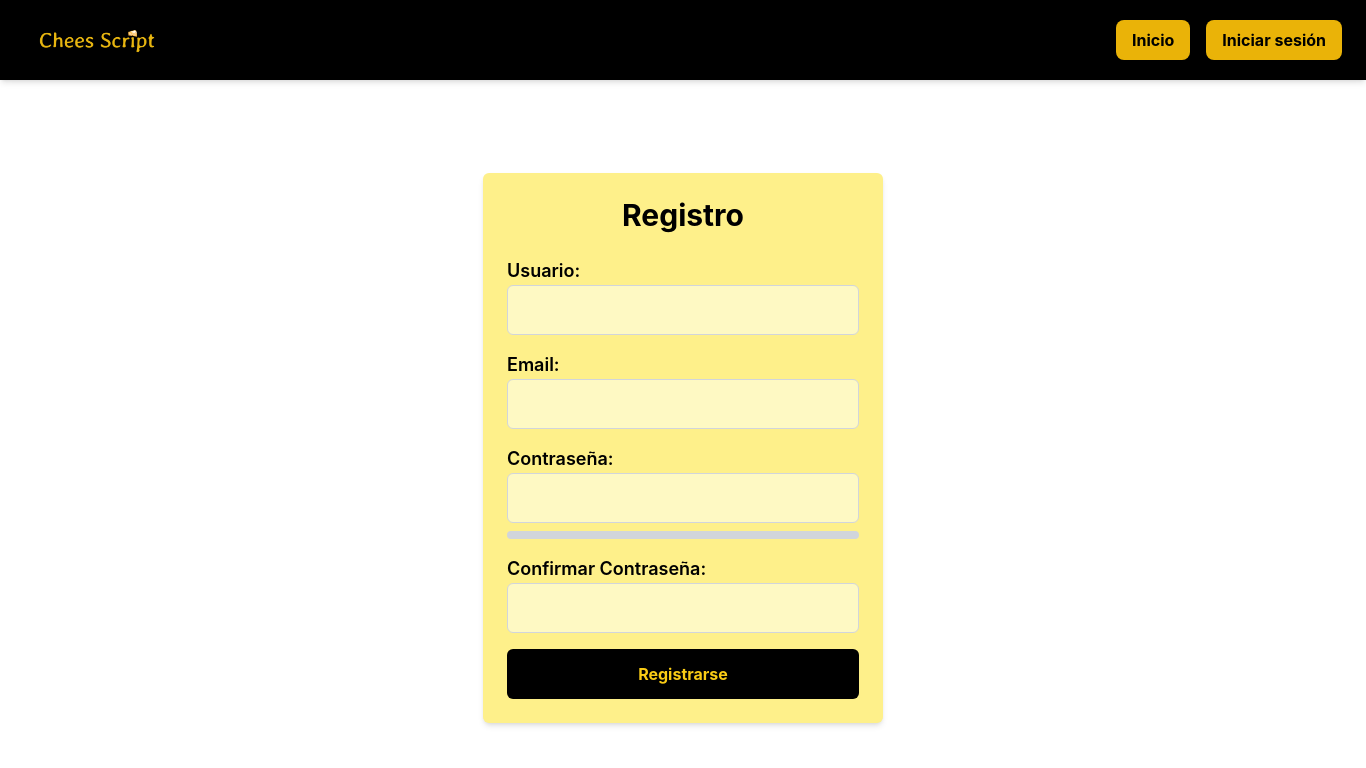
Test: Flujo de registro de Usuario › Fallo porque solo se permite Gmail y Outlook
Type "UsuarioTest" into the field named "username" below "Usuario:" at (683, 310), box [507, 285, 859, 335]
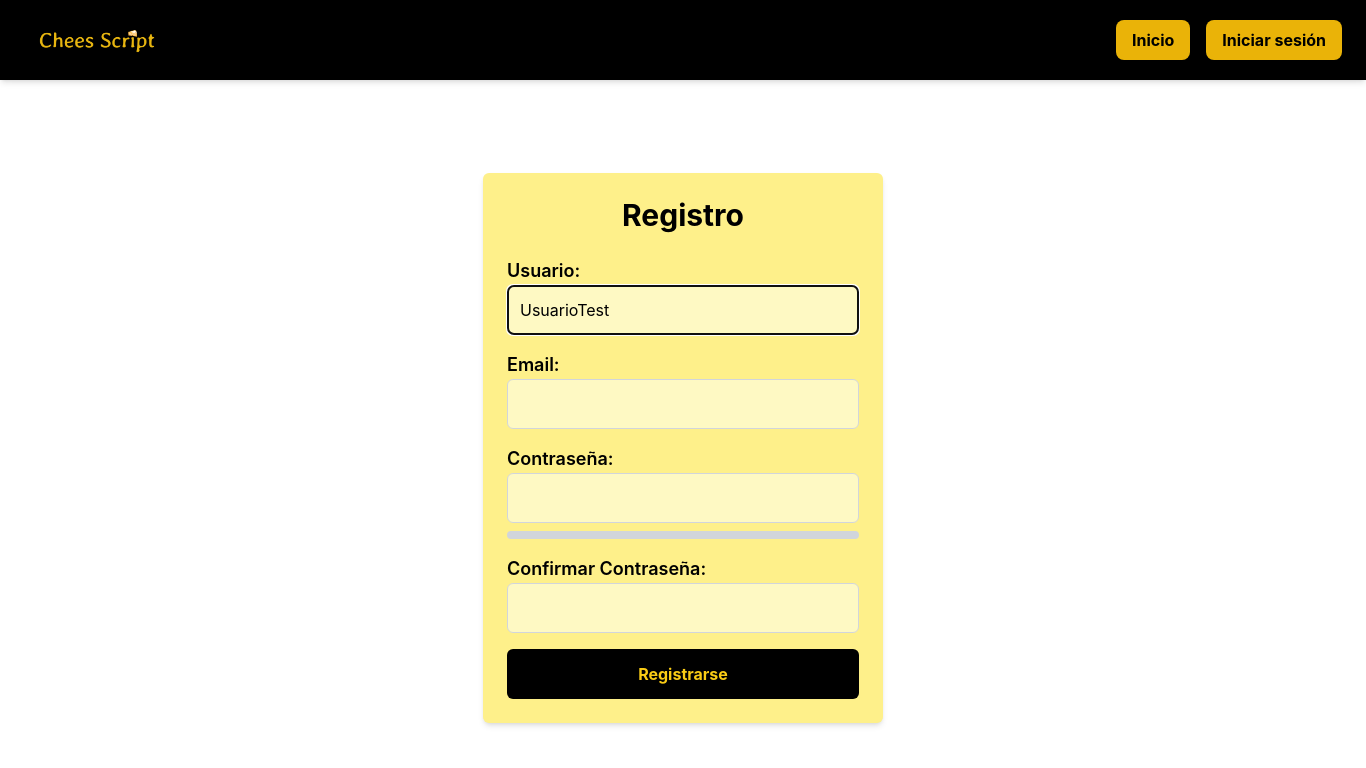
Type "nuevotest@MALICIOSO.com" into the field named "email" below "Email:" at (683, 404), box [507, 379, 859, 429]
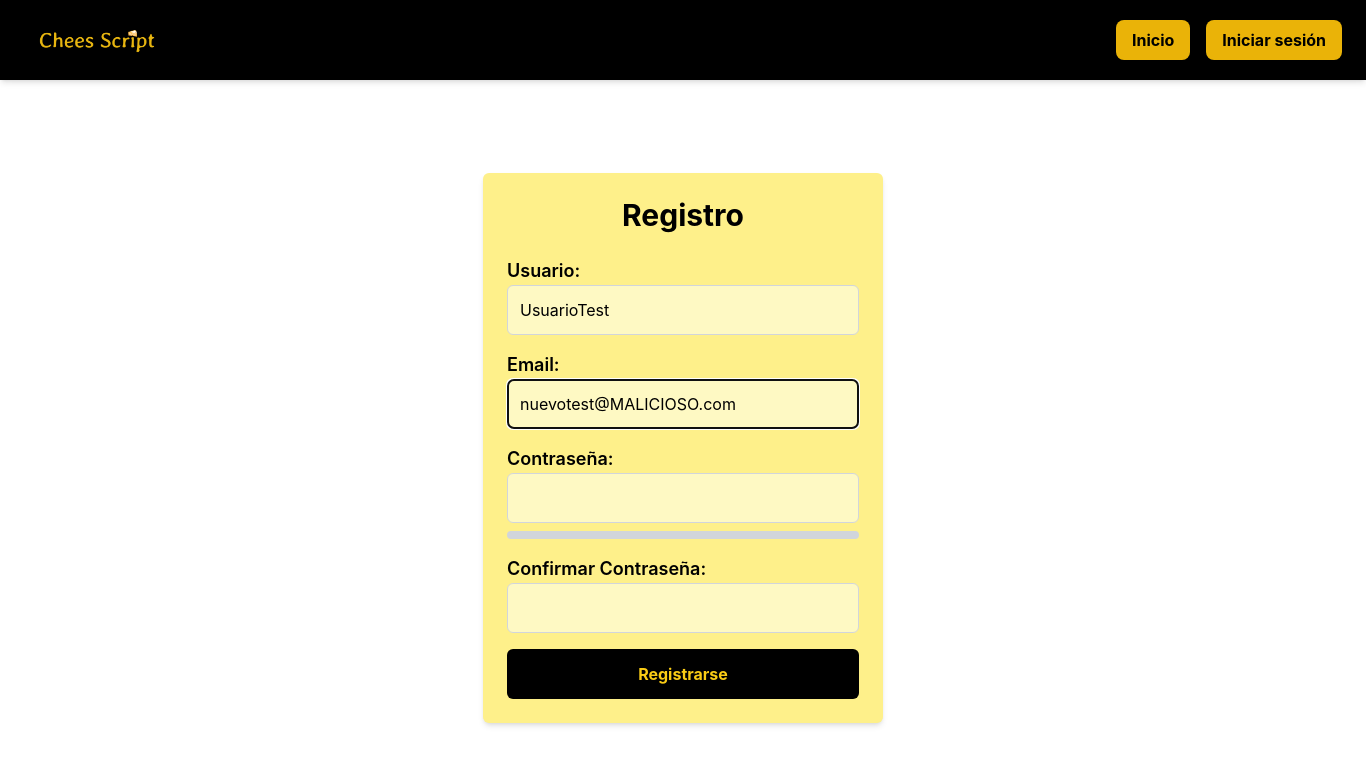
Type "contraseñaSegura123_" into the 1st password field named "password" at (683, 498), box [507, 473, 859, 523]
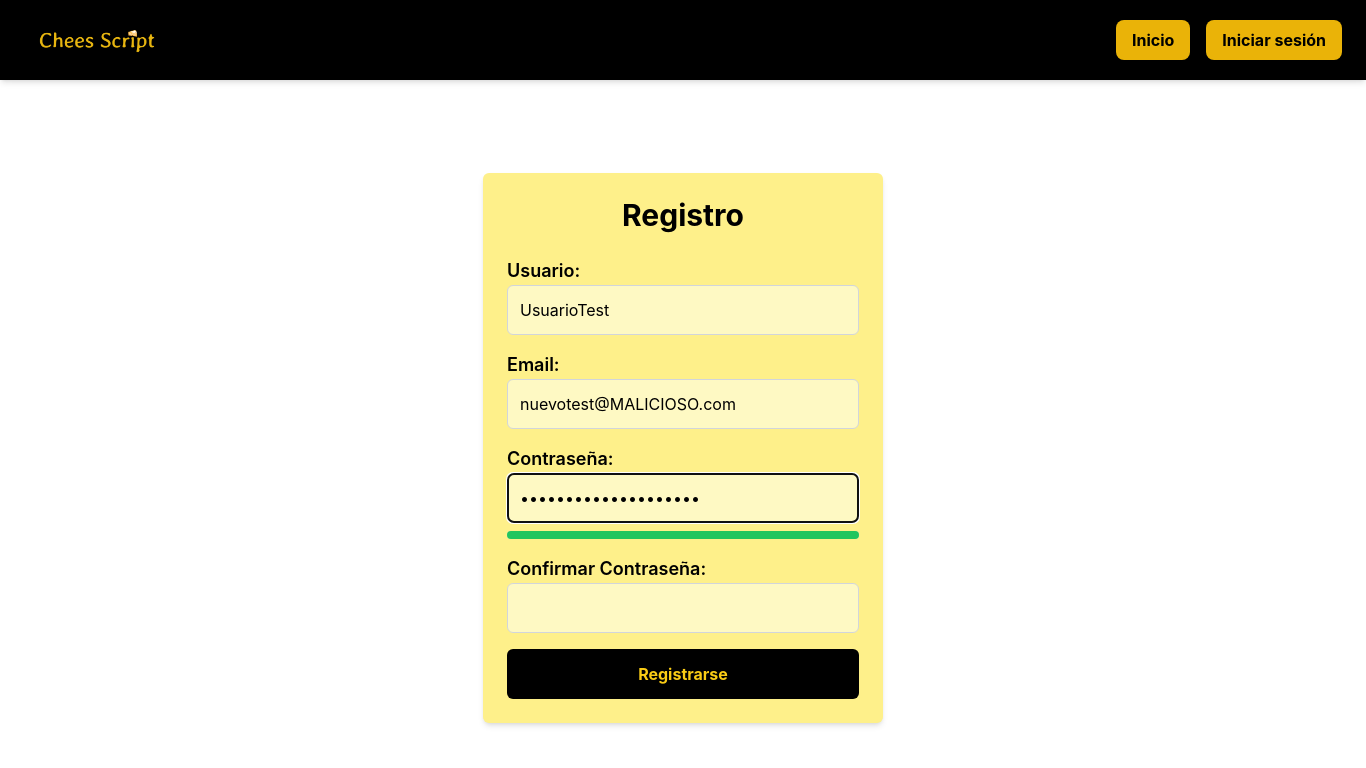
Type "contraseñaSegura123_" into the password field named "confirmPassword" below "Confirmar Contraseña:" at (683, 608), box [507, 583, 859, 633]
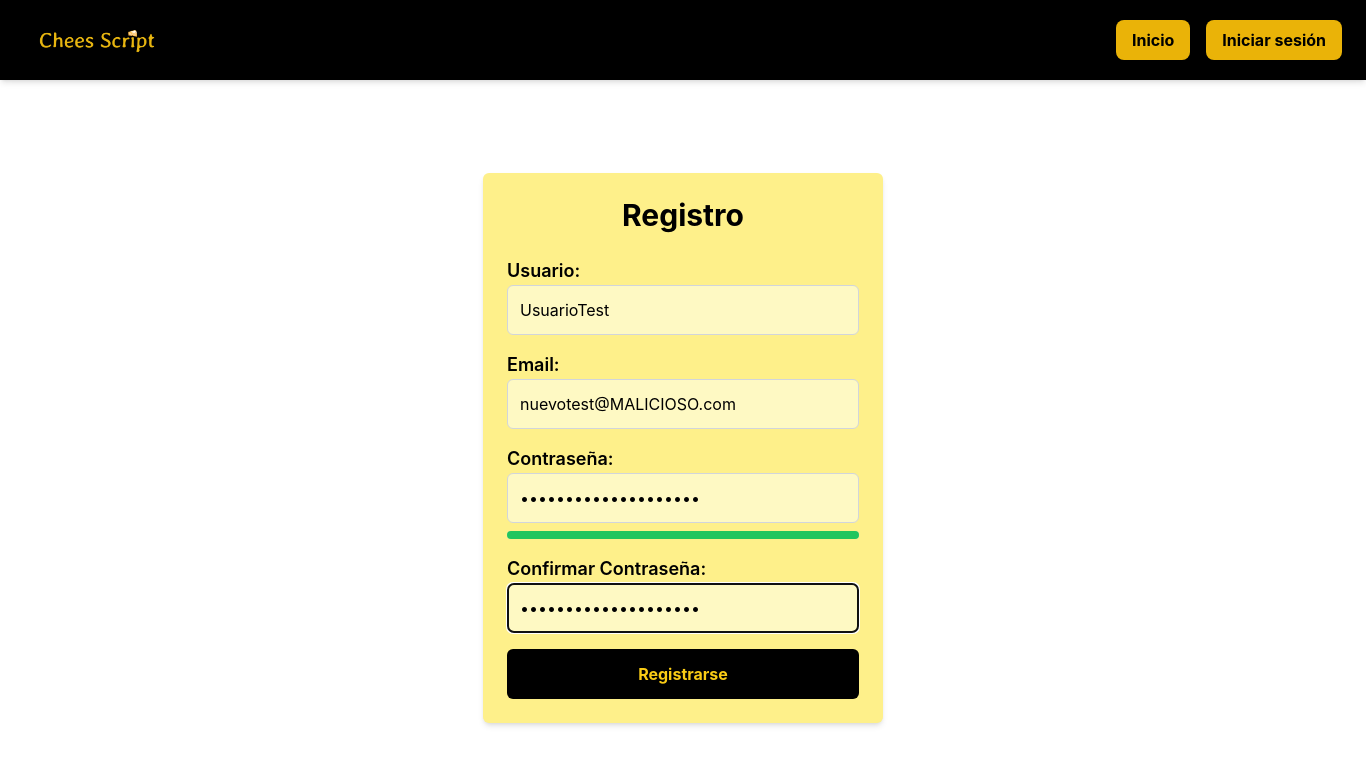
Click the submit button at (683, 674), box [507, 649, 859, 699]
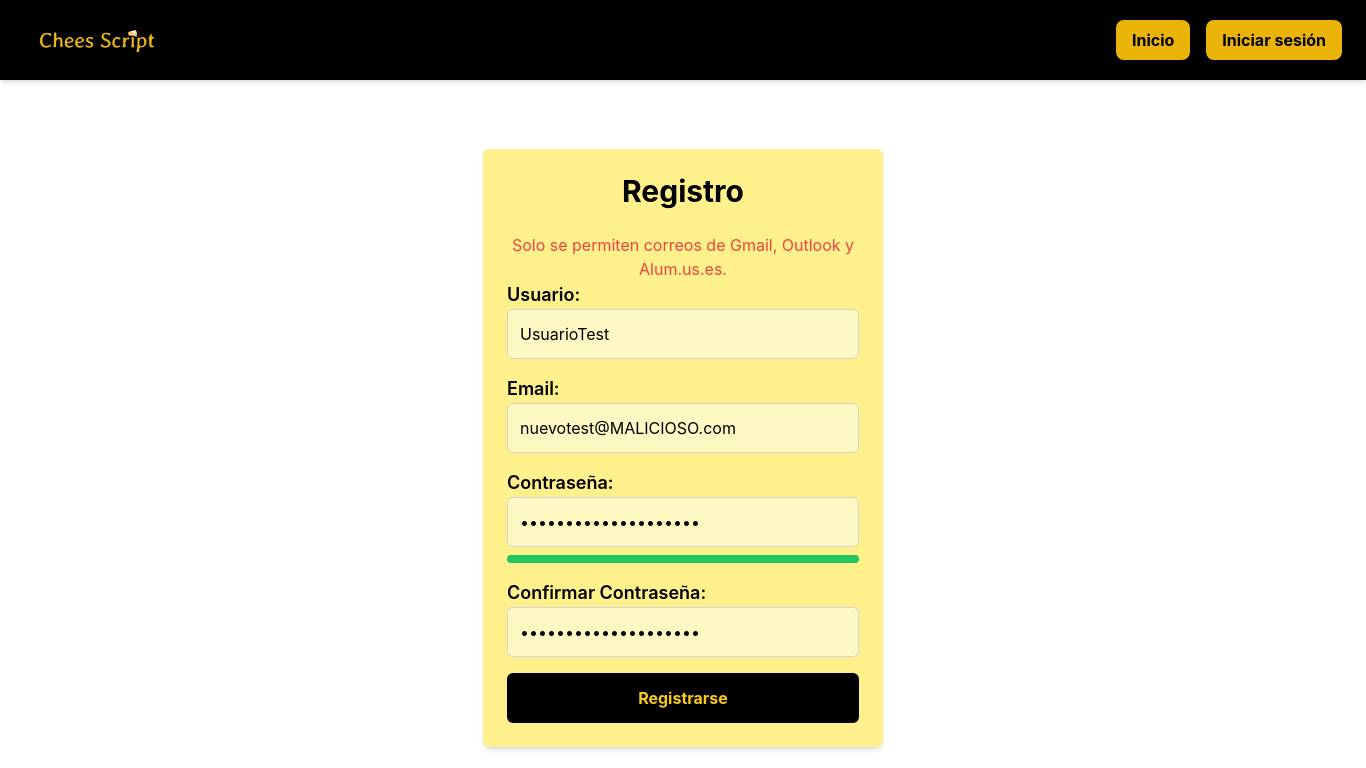
Result: the text "Solo se permiten correos de Gmail, Outlook y Alum.us.es." is shown at [507, 233, 859, 281]
